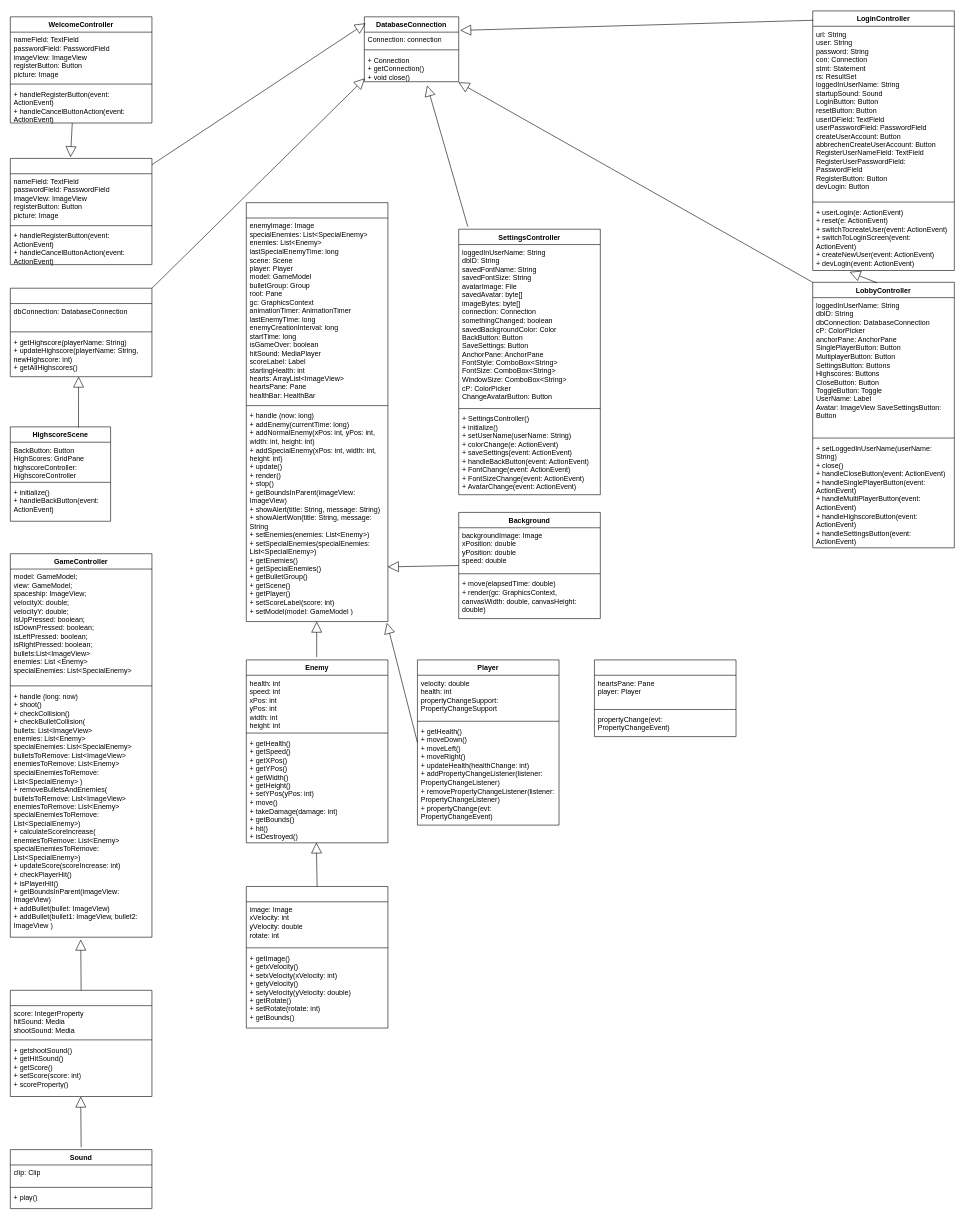
This 965x1221 diagram has some shape labels left out. The shapes that lost their labels are listed below. From the top down, each one's box as (x1, y1, x2, y2) in pixels, then its label:
(10, 158, 152, 265): RegistrationController
(10, 288, 152, 377): HighscoreController
(246, 202, 388, 622): GameView
(594, 659, 736, 737): HealthBar
(246, 886, 388, 1028): SpecialEnemy
(10, 990, 152, 1097): GameModel
